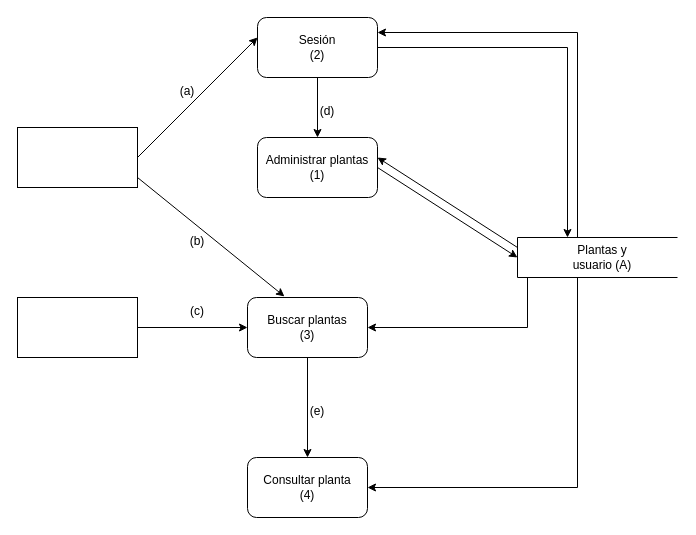
The diagram is 696 pixels wide and 535 high, and some of its shapes have lost their labels. Here are the shapes that lost their labels. From the top down, the centre of each, then its label:
(x=77, y=157): Administrador
(x=77, y=327): Cliente
